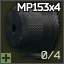MP-153 12ga 4-shell forend cap: (0, 0, 64, 64)
